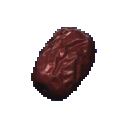gd: (20, 18, 118, 111)
